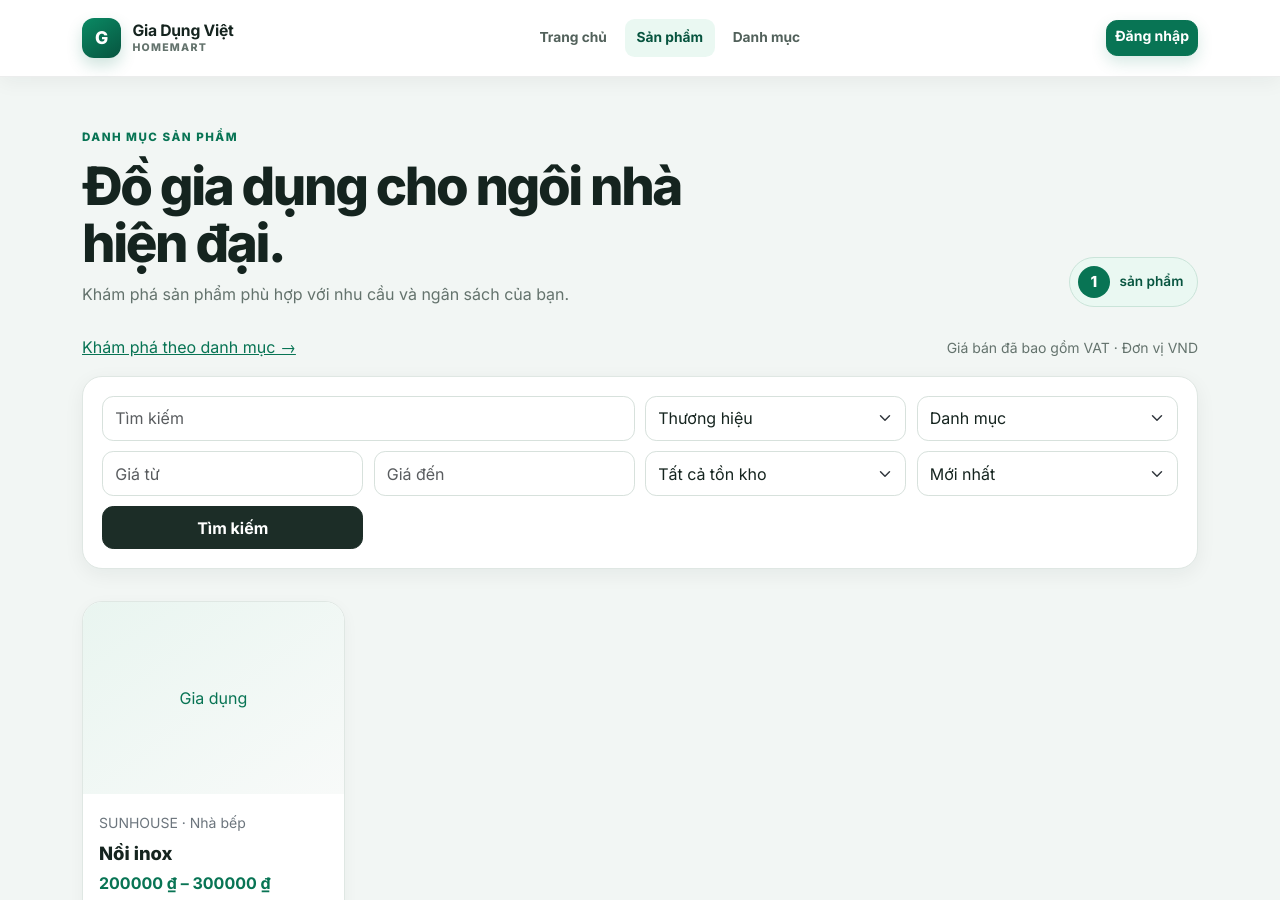
debounces suggestions without changing the main listing until submit
Check: the heading "Nồi inox" is shown, box [99, 842, 173, 864]
In the field named "Tìm sản phẩm": (368, 418) [102, 396, 635, 441], type "ấm điện"
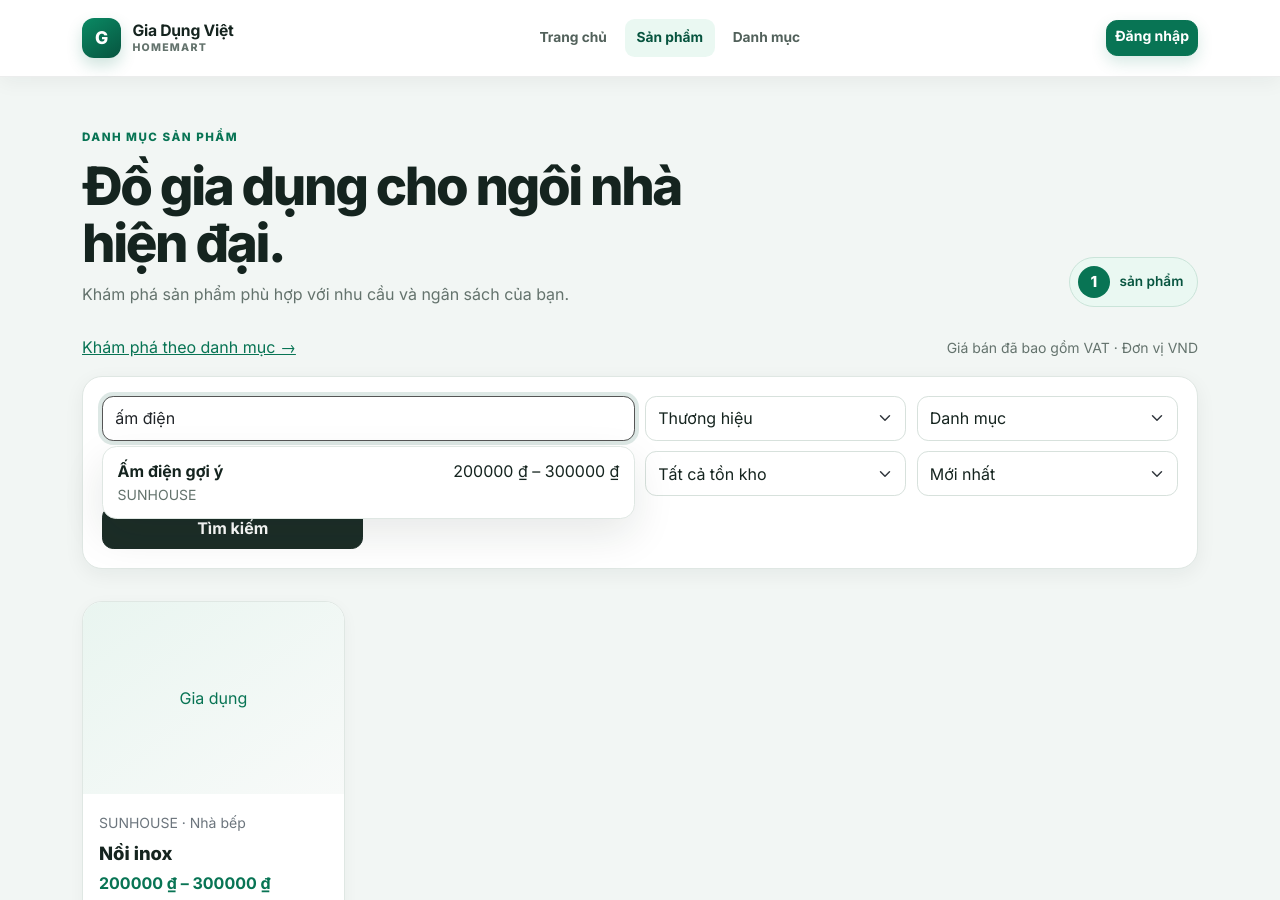
Check: the heading "Nồi inox" is shown, box [99, 842, 173, 864]
Check: the text "Ấm điện gợi ý" is shown, box [118, 461, 223, 481]
Click the button "Tìm kiếm": click(233, 528) [102, 506, 363, 549]
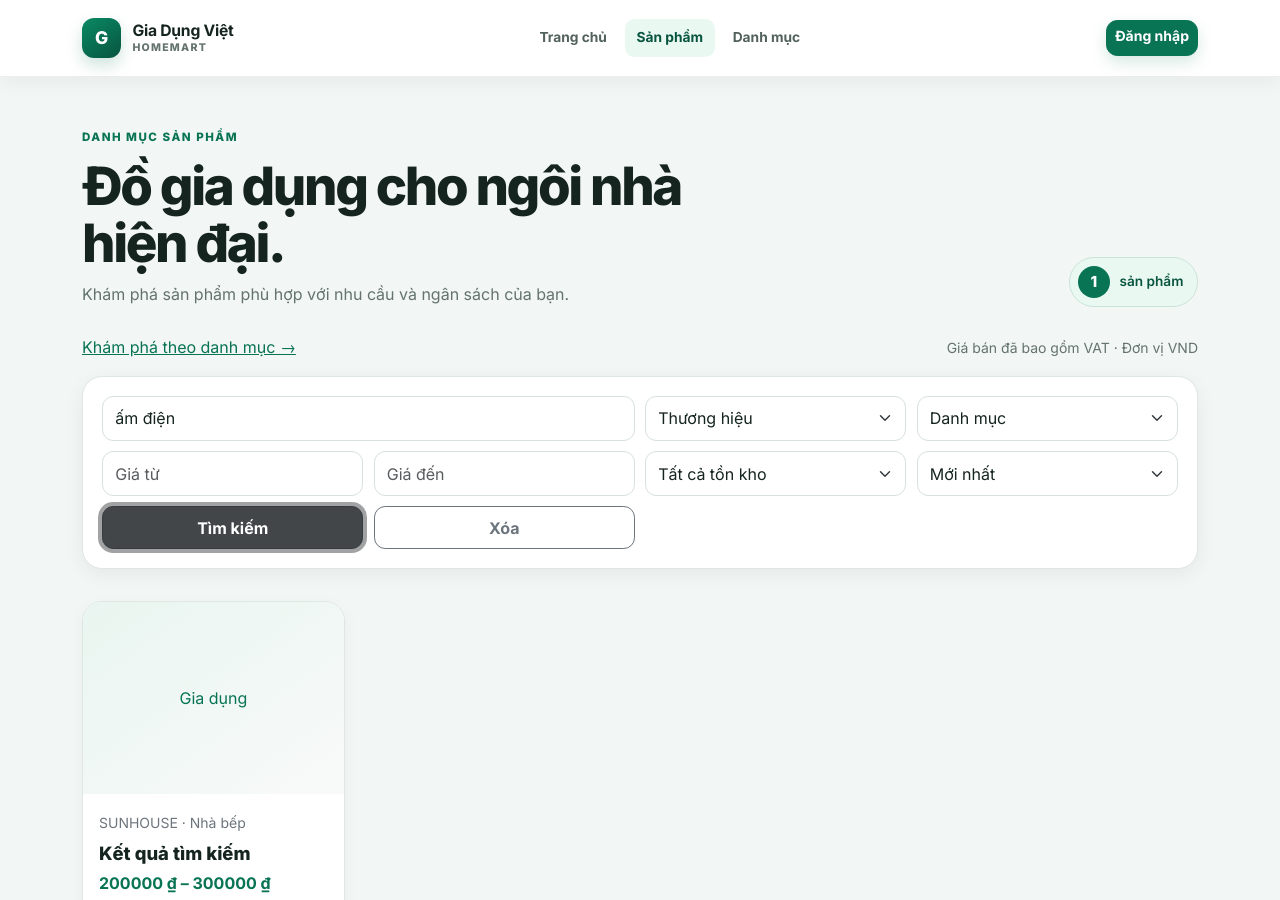
Check: the heading "Kết quả tìm kiếm" is shown, box [99, 842, 250, 864]
